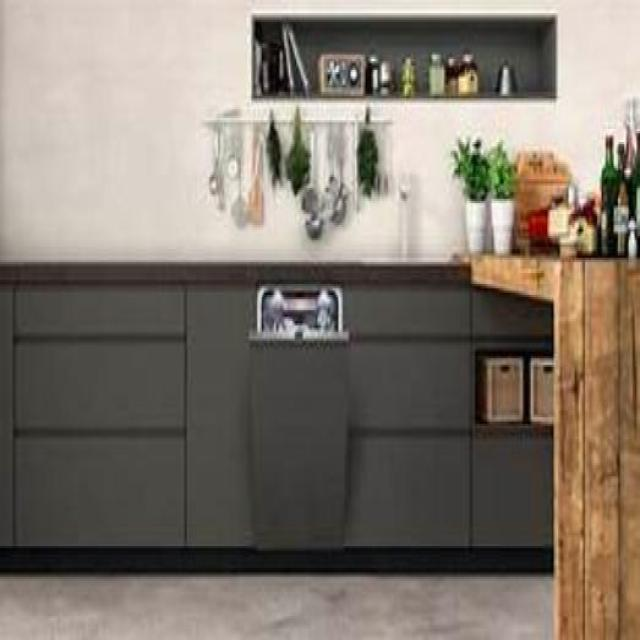dishwasher: (245, 275, 350, 553)
